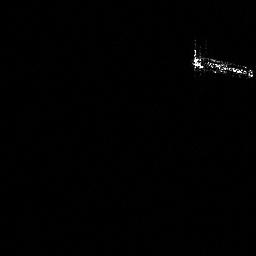ship: (190, 37, 256, 81)
